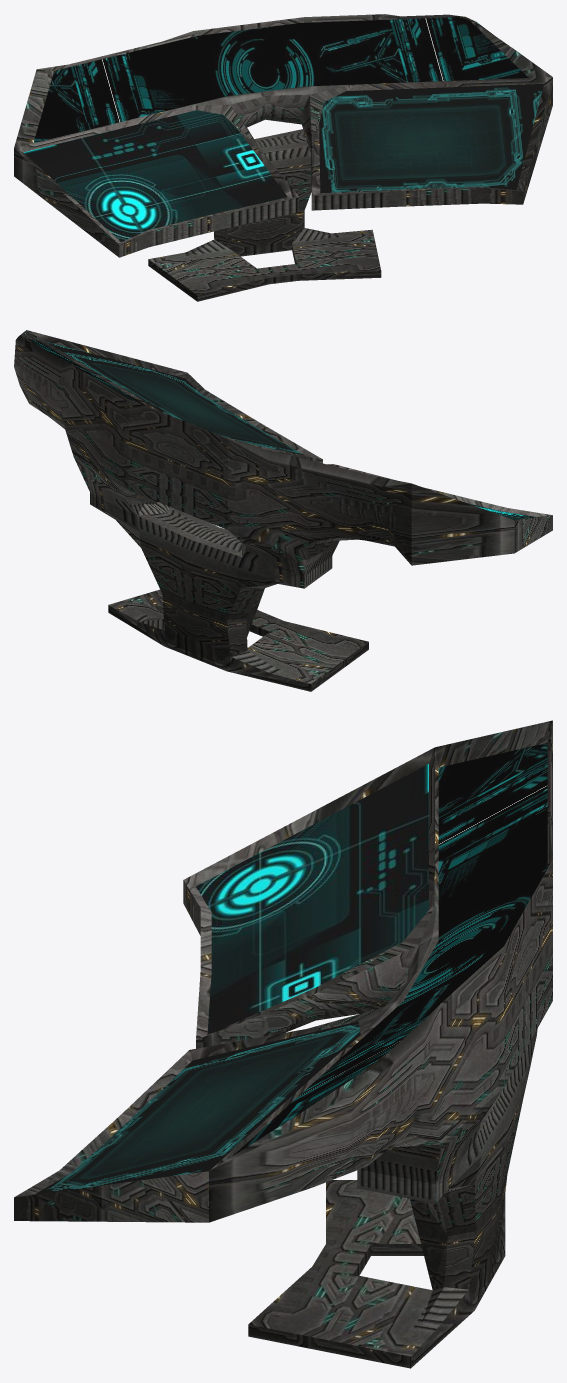
File: sterm.glb
3 renders of one model, top to bottom at view 1: azimuth 30°, elevation 25°; view 2: azimuth 150°, elevation 25°; view 3: azimuth 270°, elevation 25°, orthographic. The views are drawn at different scales.
Visible parts, largest first — view 1: MaterialFBXASC032FBXASC0352142150880, MaterialFBXASC032FBXASC0352142171094, MaterialFBXASC032FBXASC0352142172430, MaterialFBXASC032FBXASC0352142171025; view 2: MaterialFBXASC032FBXASC0352142150880, MaterialFBXASC032FBXASC0352142172430, MaterialFBXASC032FBXASC0352142171094; view 3: MaterialFBXASC032FBXASC0352142150880, MaterialFBXASC032FBXASC0352142171025, MaterialFBXASC032FBXASC0352142171094, MaterialFBXASC032FBXASC0352142172430.
Part boxes in pixels (<box>): MaterialFBXASC032FBXASC0352142150880: <box>14,14,552,301</box>; MaterialFBXASC032FBXASC0352142171094: <box>33,17,528,143</box>; MaterialFBXASC032FBXASC0352142172430: <box>319,84,543,193</box>; MaterialFBXASC032FBXASC0352142171025: <box>23,110,287,241</box>; MaterialFBXASC032FBXASC0352142150880: <box>14,330,552,691</box>; MaterialFBXASC032FBXASC0352142172430: <box>46,341,304,455</box>; MaterialFBXASC032FBXASC0352142171094: <box>27,338,146,405</box>; MaterialFBXASC032FBXASC0352142150880: <box>14,720,552,1368</box>; MaterialFBXASC032FBXASC0352142171025: <box>196,764,428,1034</box>; MaterialFBXASC032FBXASC0352142171094: <box>233,743,547,1155</box>; MaterialFBXASC032FBXASC0352142172430: <box>35,1021,360,1194</box>.
Size of the model in its own units: 32.13 by 13.58 by 17.27.
4 materials, 4 textured.
